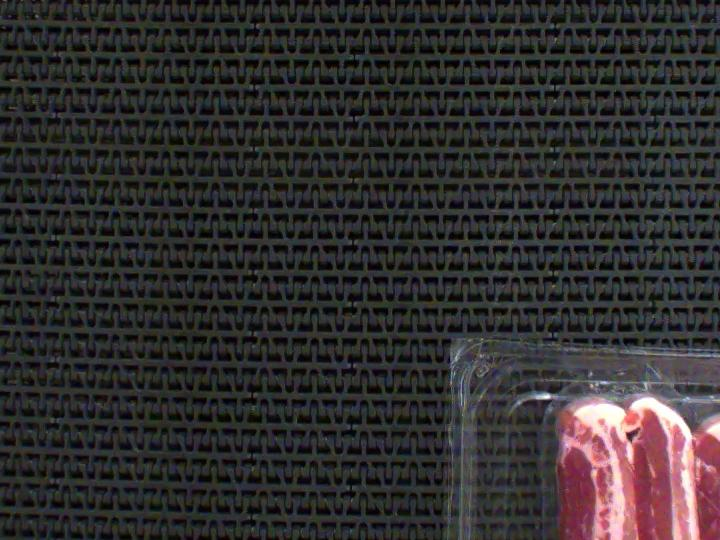unsealed: (540, 355, 720, 471)
